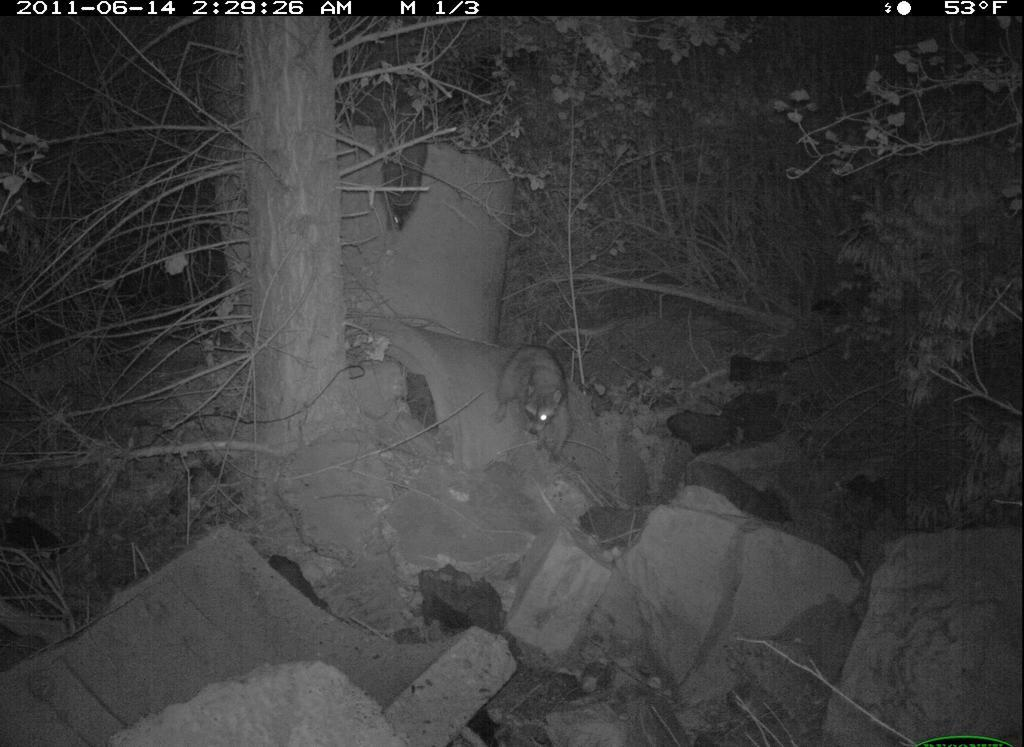raccoon: (493, 328, 583, 469)
